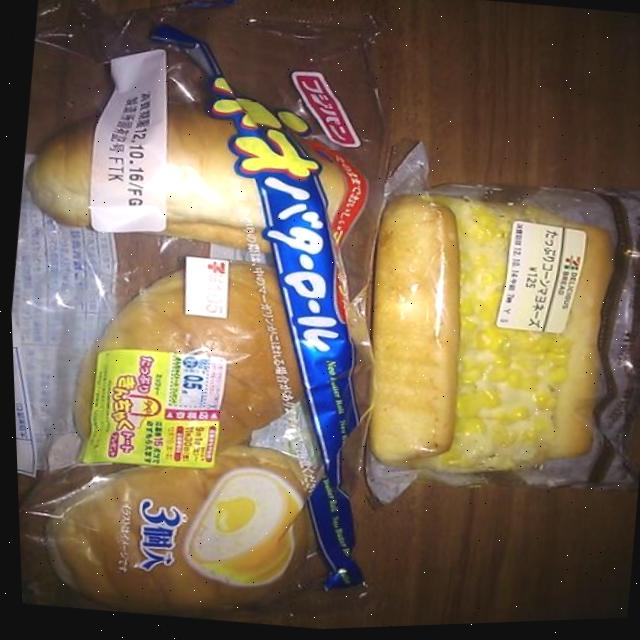面包点心: (0, 0, 414, 640)
